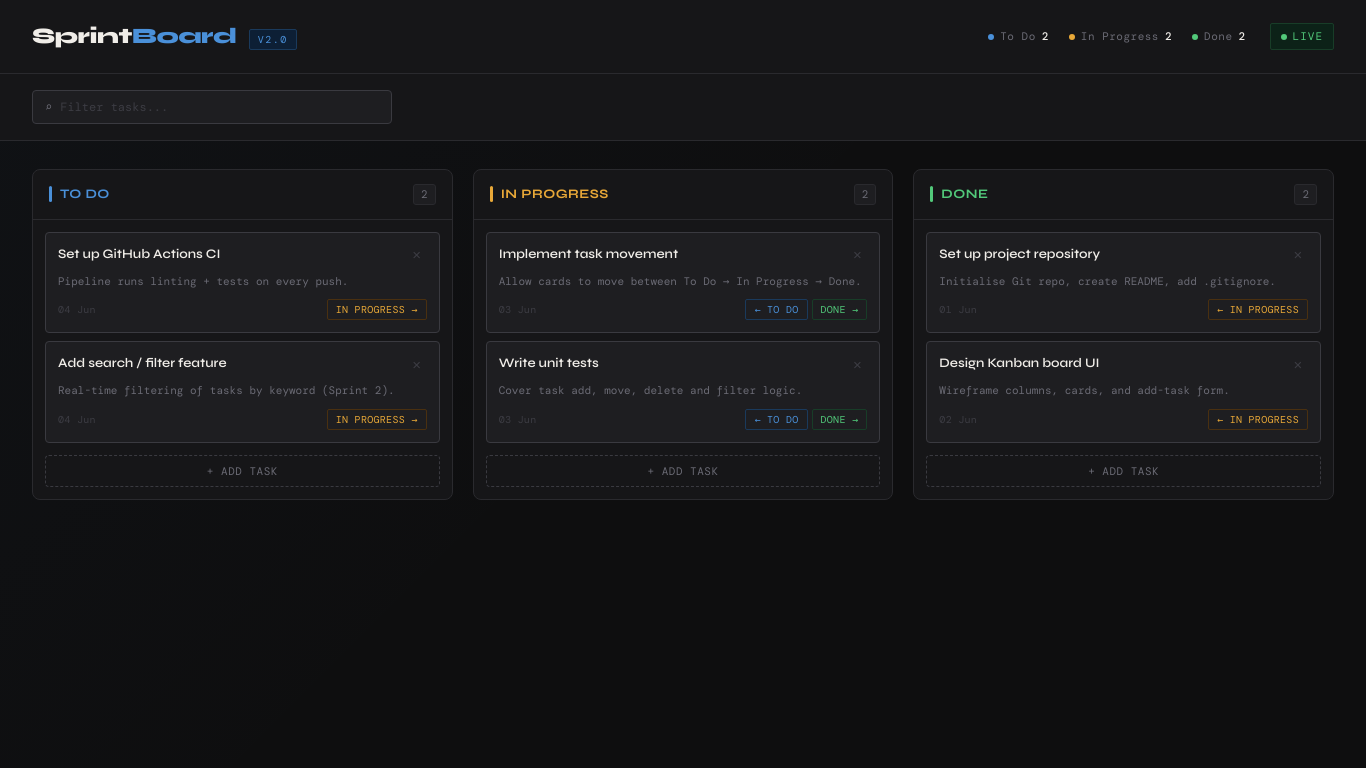
Test: App › adds a new task when the form is submitted
// Open add-task form in "To Do" column
Click the button "+ Add task" below "Add search / filter feature": (242, 470) [45,454,440,486]
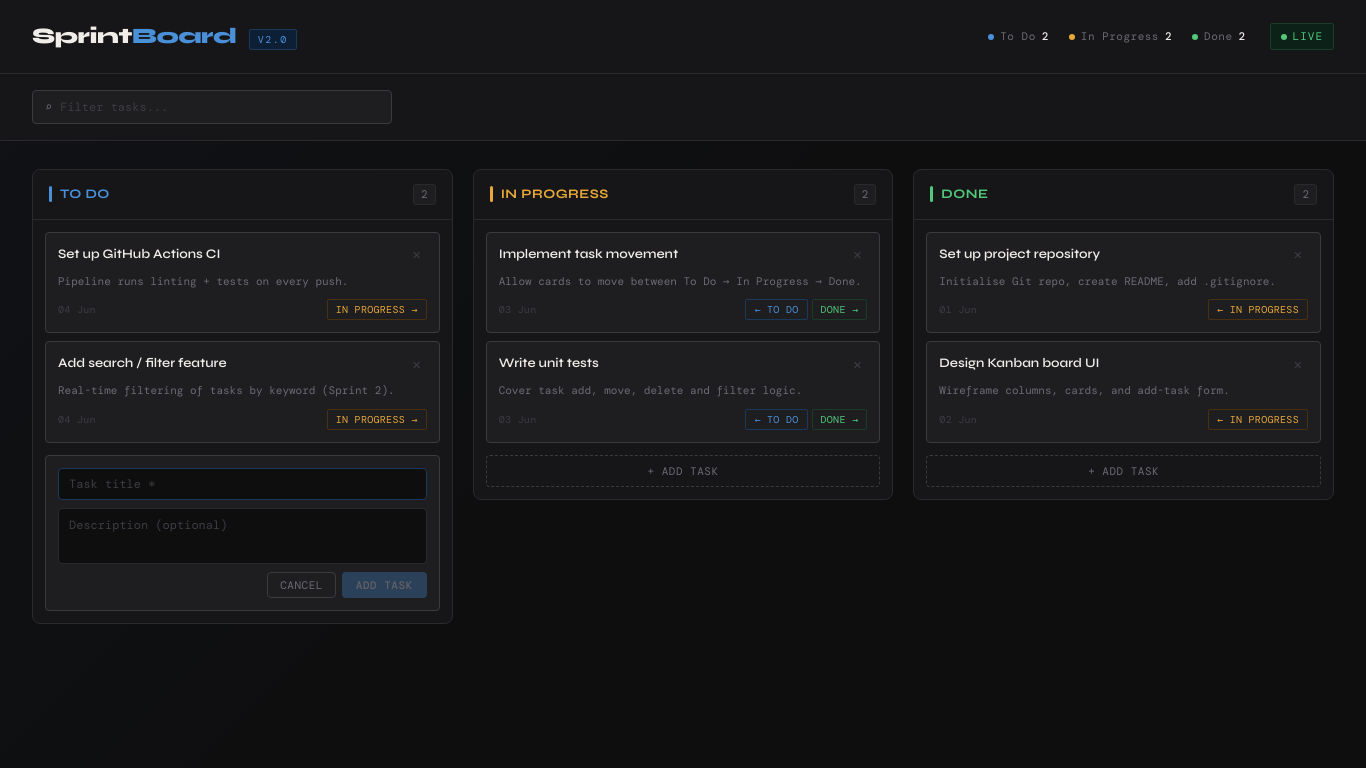
In the field labelled "Task title *": (242, 484) [58,468,427,500], type "Brand New Task"
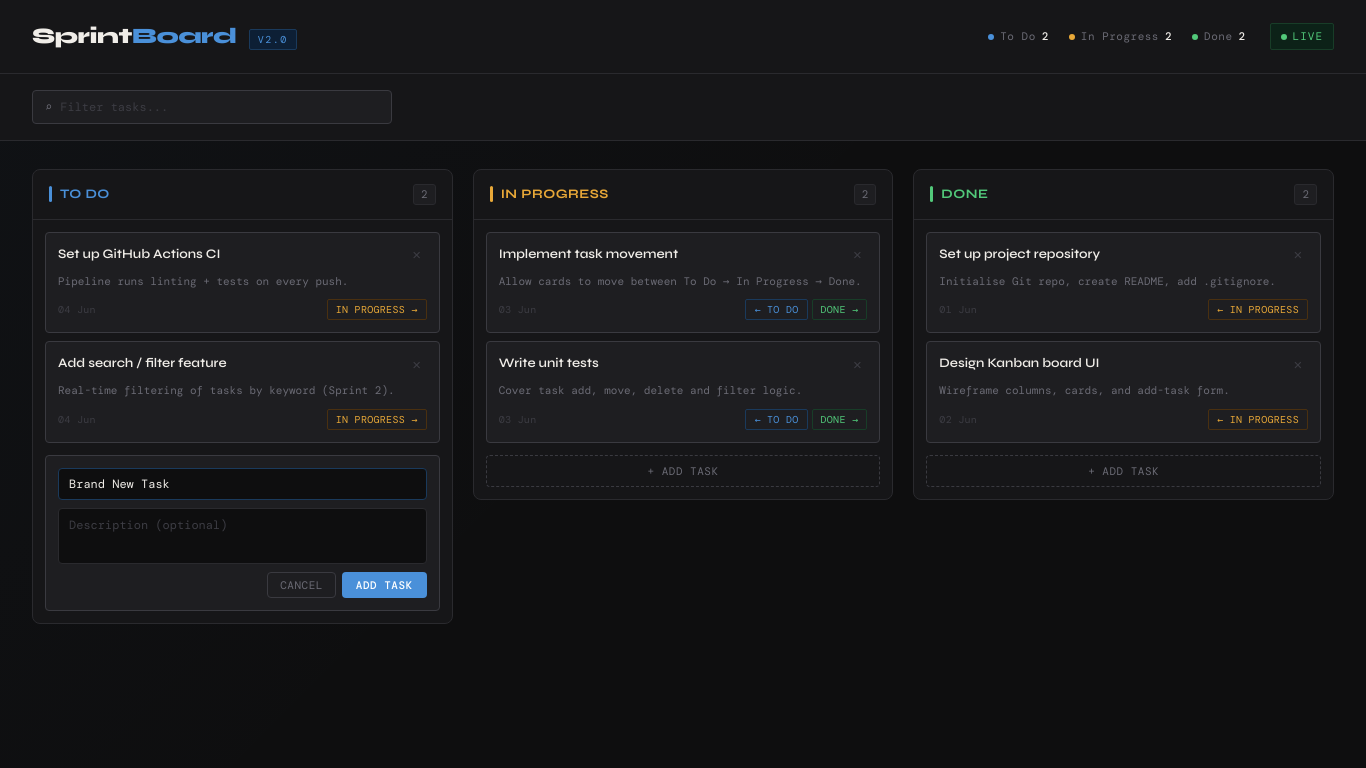
// Use the exact btn-add label to avoid matching the toggle buttons
Click the button "Add Task": (384, 584) [342,572,427,598]
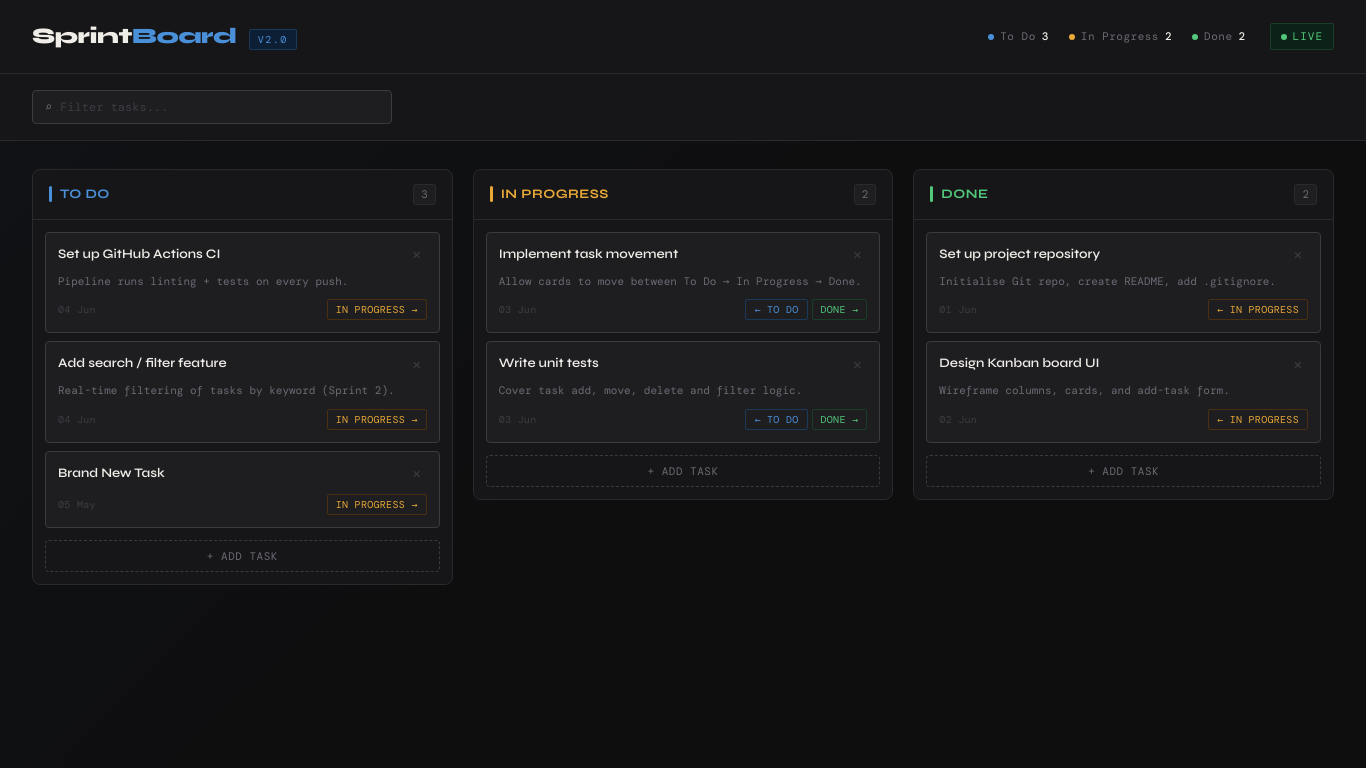
Now the heading "Brand New Task" is shown, box [58,464,165,482]
